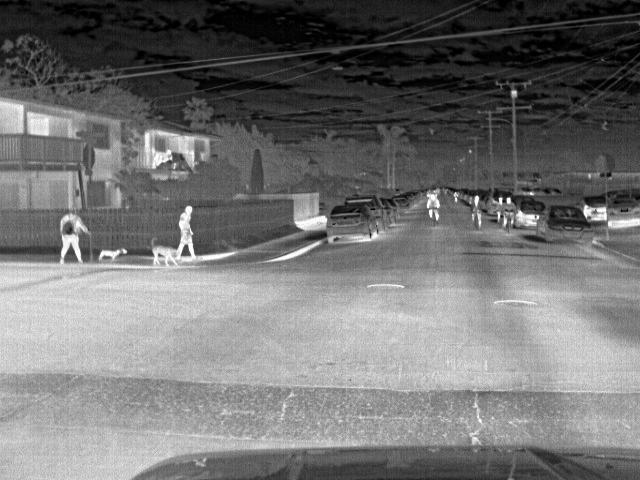car: (324, 204, 374, 248), (541, 204, 592, 240), (343, 197, 385, 233), (607, 198, 640, 230), (516, 200, 548, 226), (584, 196, 608, 223), (391, 196, 414, 217), (383, 198, 400, 223)
dog: (148, 239, 182, 266), (94, 248, 129, 267)
person: (57, 208, 90, 264), (174, 204, 200, 260), (501, 195, 518, 228), (427, 192, 442, 225), (470, 195, 485, 225)
